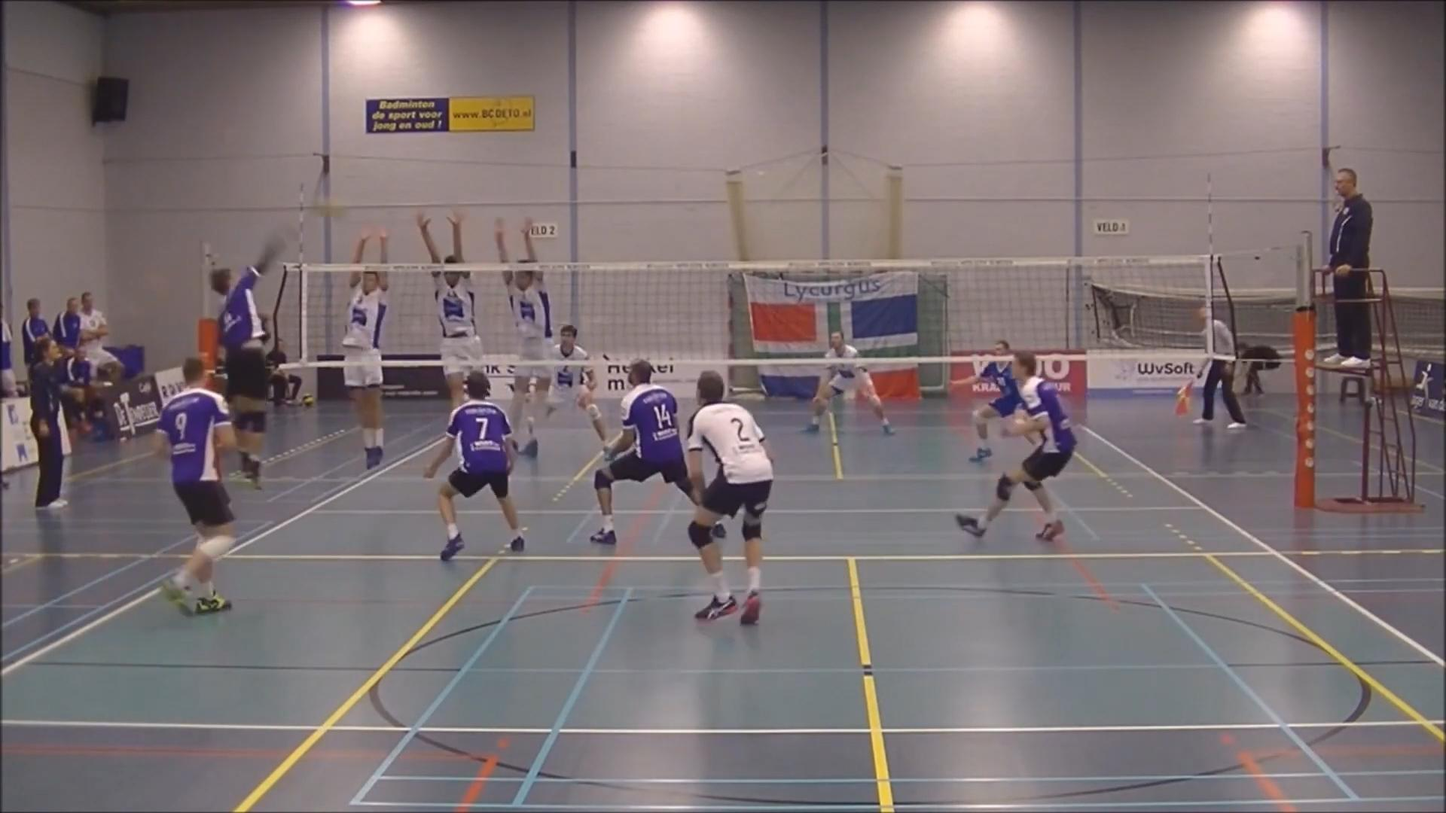Attack: (209, 219, 302, 490)
Block: (483, 211, 564, 440), (412, 201, 496, 419), (330, 222, 401, 476)
Player: (956, 351, 1075, 540), (687, 371, 773, 624), (155, 358, 235, 614), (590, 360, 700, 544), (423, 371, 524, 561), (807, 332, 893, 434), (543, 324, 606, 445), (951, 361, 1022, 462)
